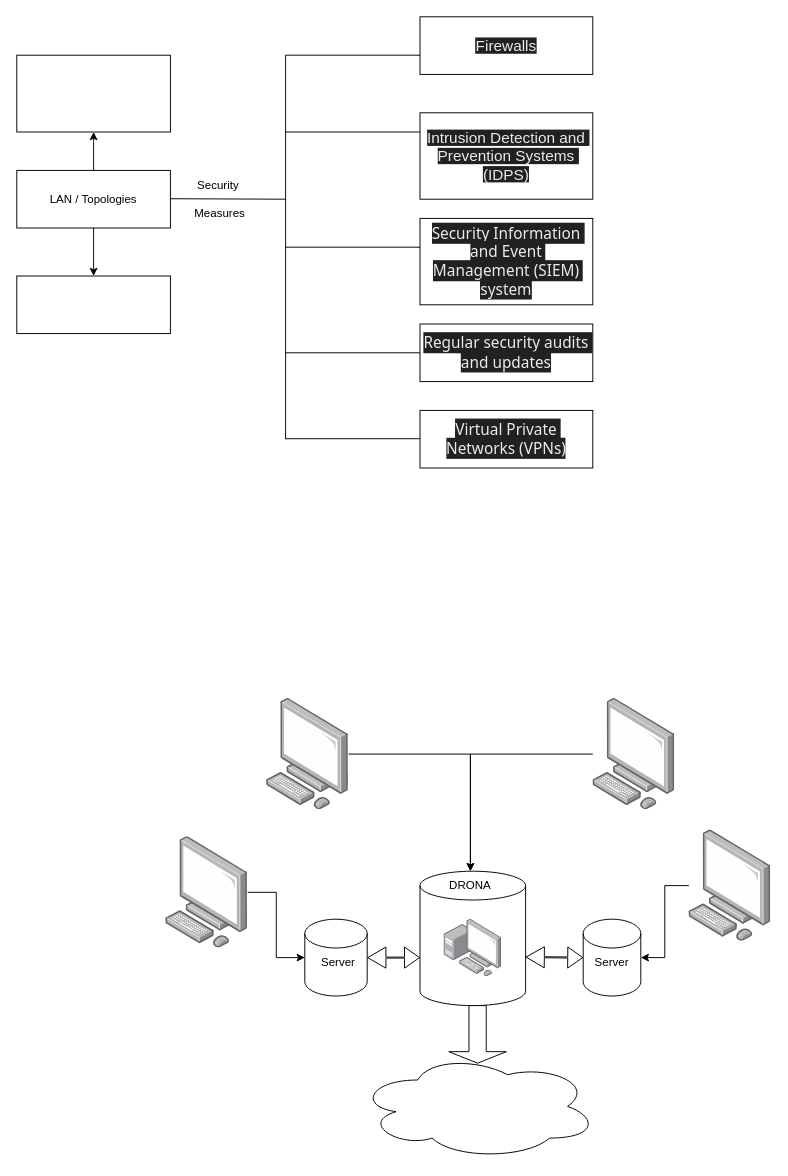
This 788x1176 diagram has some shape labels left out. The centre of each missing label's shape, as x and y in pixels:
"Hardware Selection" belongs at [93,304].
"Information Gathering/ Requirements" belongs at [93,93].
"INTERNET" belongs at [477,1106].
